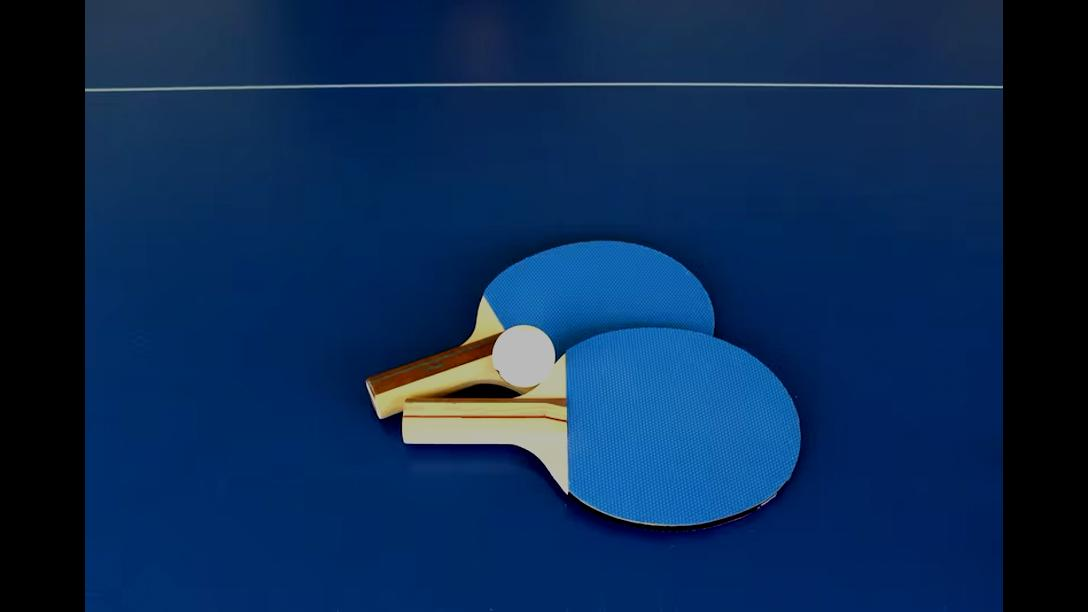Table-Tennis-Ball: (493, 325, 555, 387)
